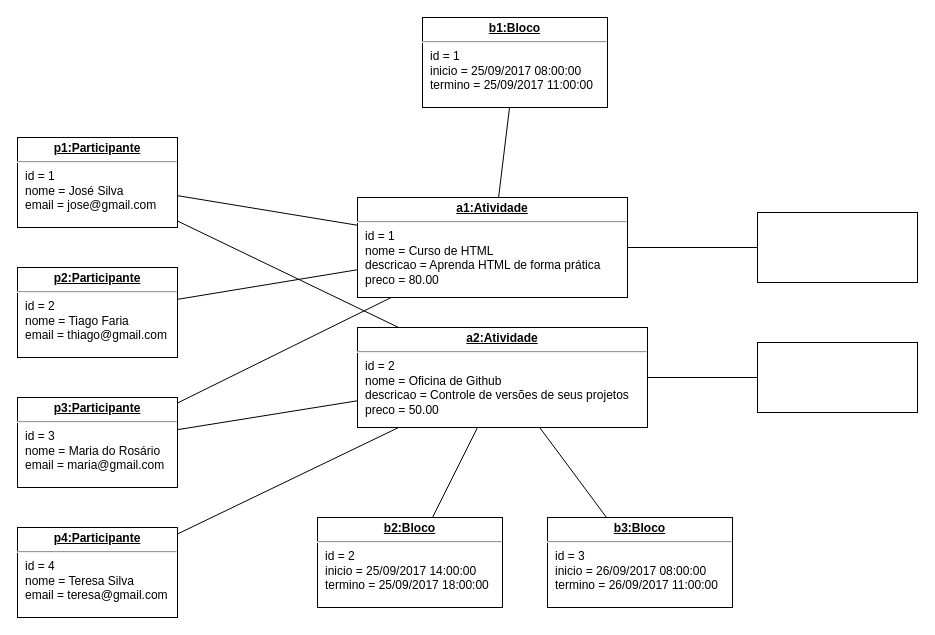
Some shapes in this 935 by 635 pixel diagram are drawn without their labels. The box of each missing label's shape, as (x1, y1, x2, y2) in pixels:
c1:Categoria id = 1 descricao: Curso: (756, 212, 918, 282)
c2:Categoria id = 2 descricao: Oficina: (756, 342, 918, 412)
